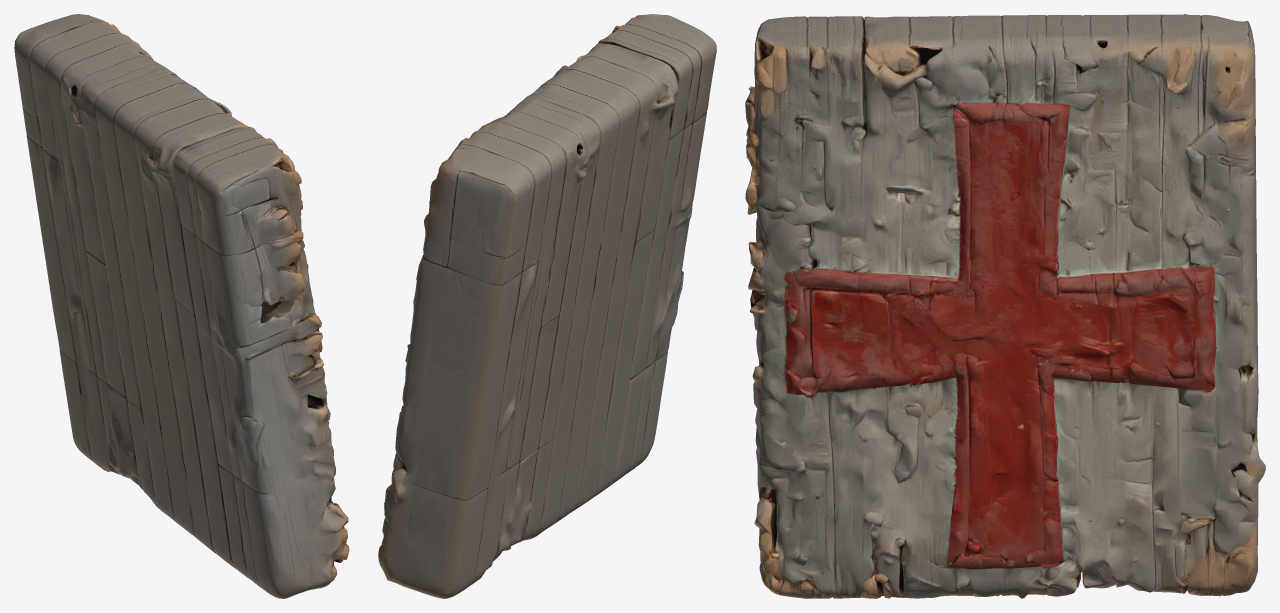
File: plague-cross.glb
3 views of the same model, side by side, from view 1: azimuth 30°, elevation 25°; view 2: azimuth 150°, elevation 25°; view 3: azimuth 270°, elevation 25° (orthographic). The views are drawn at different scales.
Parts seen in each view (by area): view 1: tripo_node_99e7bbc4-96cd-4807-9af9-26520d6807b4; view 2: tripo_node_99e7bbc4-96cd-4807-9af9-26520d6807b4; view 3: tripo_node_99e7bbc4-96cd-4807-9af9-26520d6807b4.
Boxes of the visible parts, x1,y1,x2,y2 form: tripo_node_99e7bbc4-96cd-4807-9af9-26520d6807b4: [14, 14, 349, 598]; tripo_node_99e7bbc4-96cd-4807-9af9-26520d6807b4: [378, 14, 716, 598]; tripo_node_99e7bbc4-96cd-4807-9af9-26520d6807b4: [745, 14, 1265, 598].
Size of the model in its own units: 0.3562 by 1 by 0.8843.
Materials: 1 (1 with a texture image).
